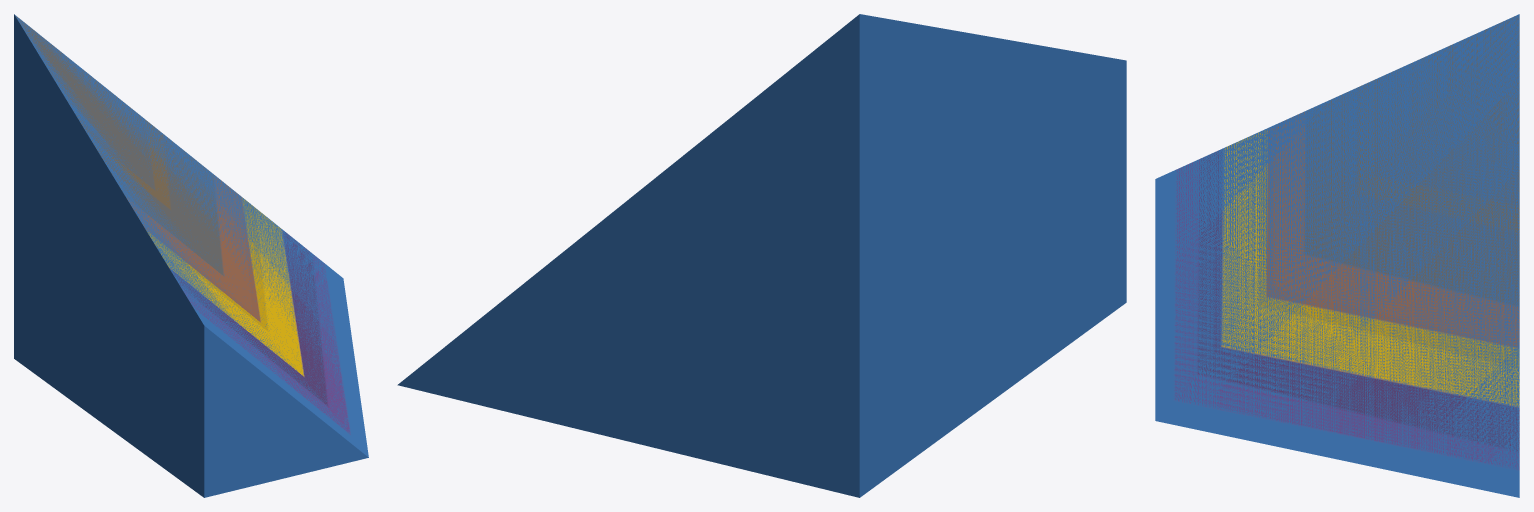
The model's file is r5c2_border_blue.gltf.
3 renders of one model, left to right at view 1: azimuth 30°, elevation 25°; view 2: azimuth 150°, elevation 25°; view 3: azimuth 270°, elevation 25°, orthographic. The views are drawn at different scales.
Visible parts, largest first — view 1: r5c2_border_blue; view 2: r5c2_border_blue; view 3: r5c2_border_blue.
Boxes of the visible parts, bbox=[...] form: r5c2_border_blue: bbox=[14, 14, 368, 497]; r5c2_border_blue: bbox=[397, 14, 1126, 497]; r5c2_border_blue: bbox=[1155, 14, 1519, 497].
Size of the model in its own units: 2.1 by 2.1 by 2.1.
1 material, 1 textured.
